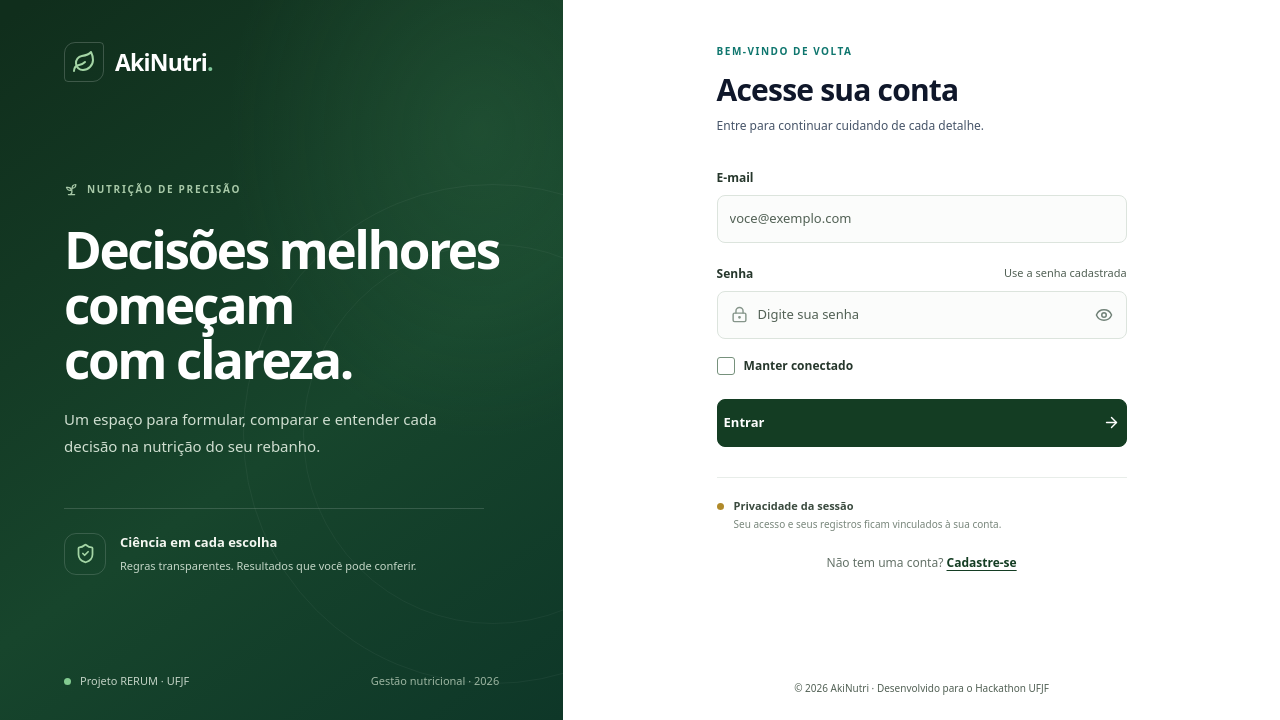
Test: failed authentication never opens the workspace
Expected: the heading "Acesse sua conta" is shown, [717,69,958,110]
Type "wrong@example.com" into the field labelled "E-mail" at (922, 218), box [717,194,1127,242]
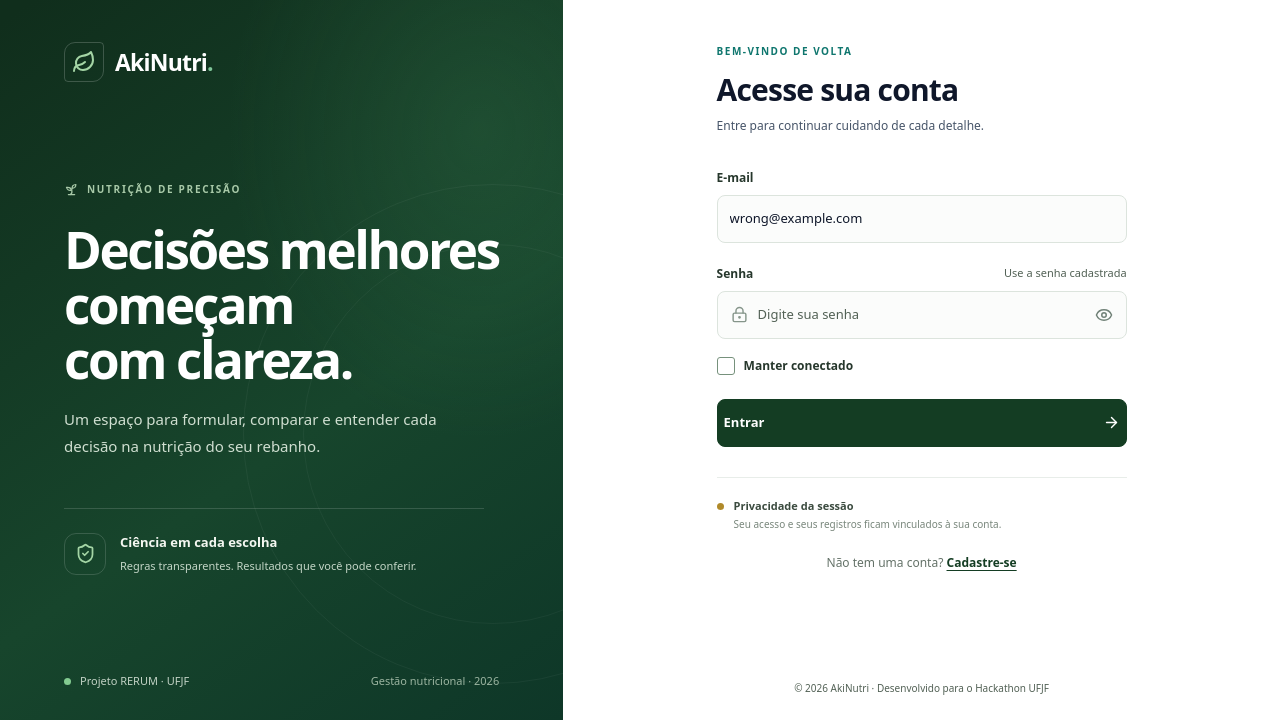
Type "wrong-password" into the password field labelled "Senha" at (915, 314), box [758,292,1072,338]
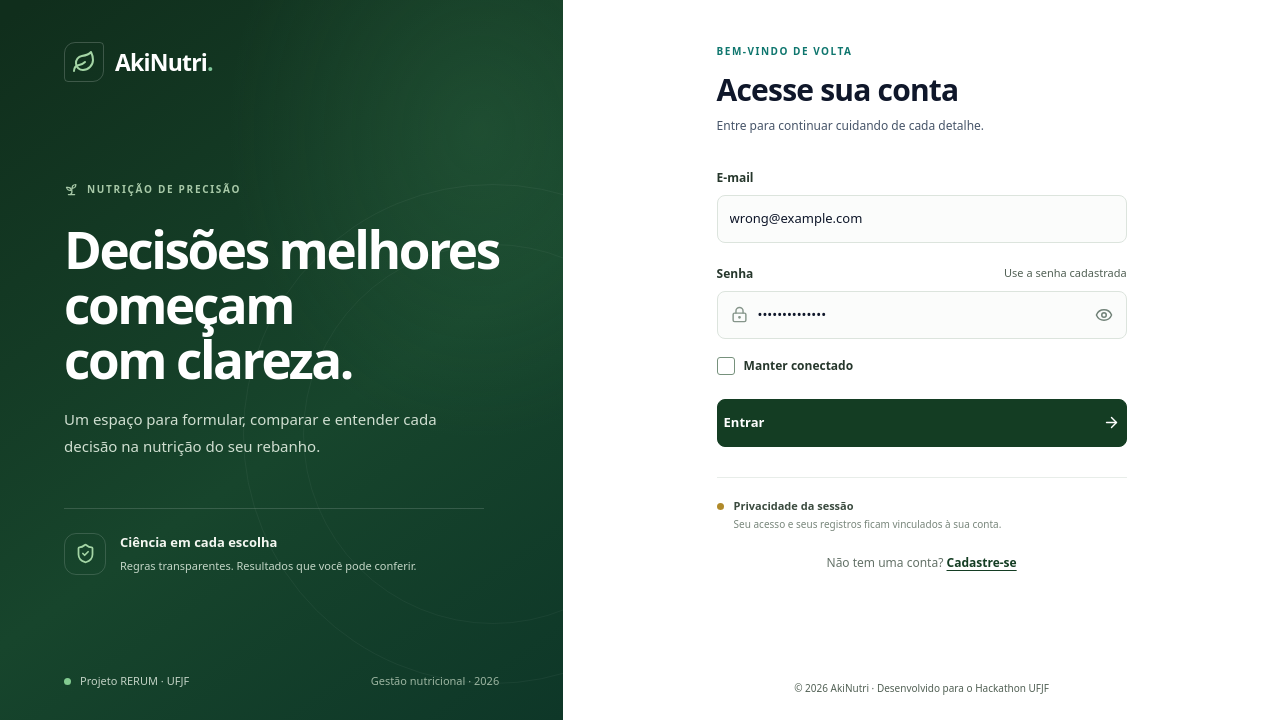
Submit the form "Entrar", box [717,168,1127,446]
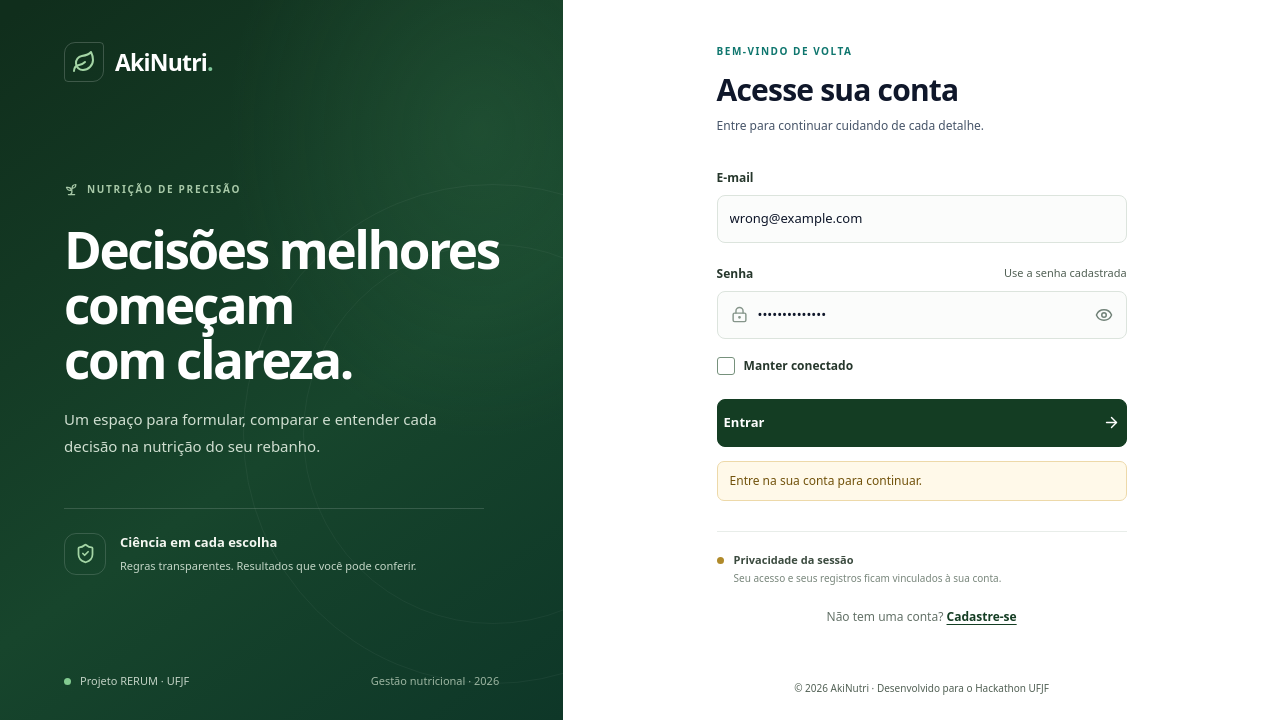
Expected: the message "Entre na sua conta para continuar." is shown, [717,460,1127,500]
